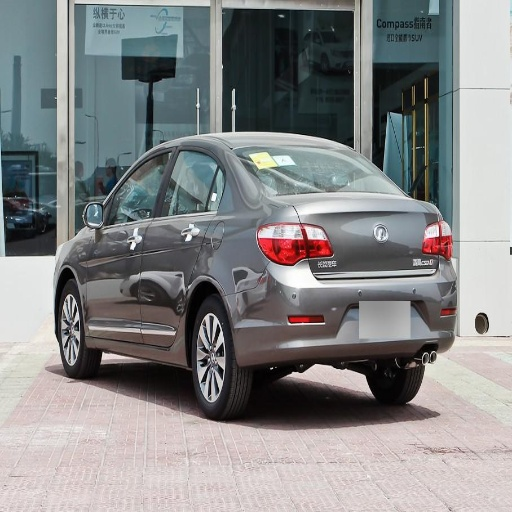back_bumper: (228, 260, 453, 366)
back_glass: (235, 145, 397, 194)
back_left_door: (143, 144, 225, 349)
tailgate: (289, 192, 429, 276)
trunk: (312, 233, 437, 299)
